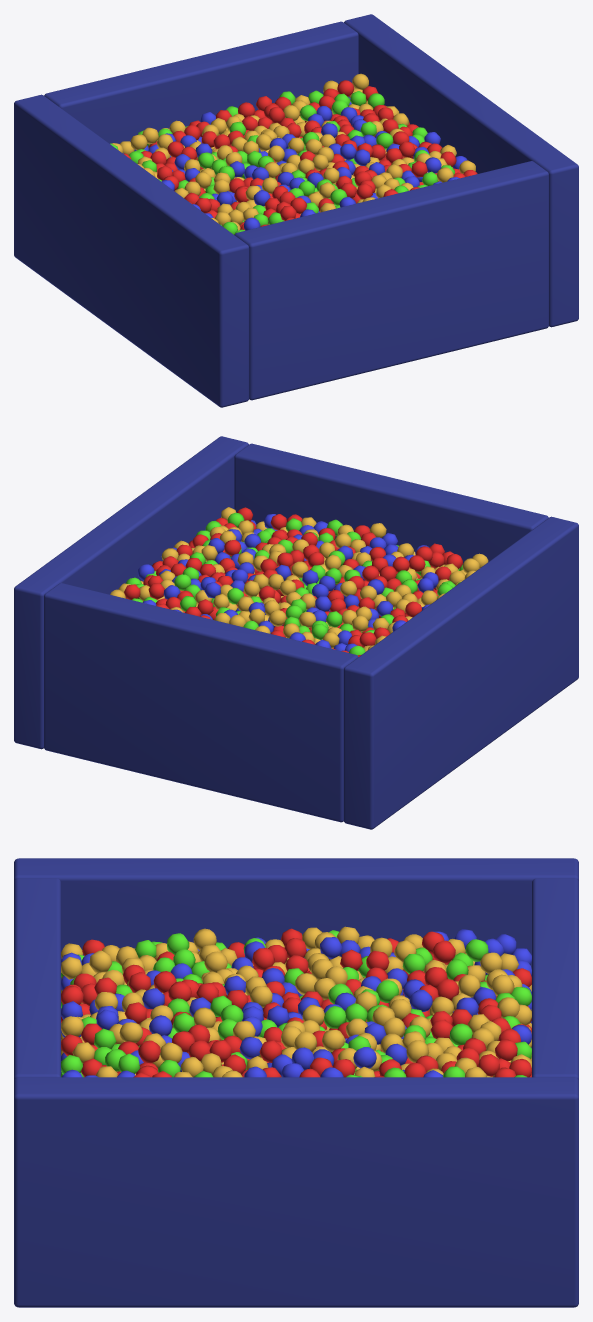
The model's file is ball-ball-pool.glb.
The picture shows the model from 3 angles, top to bottom: view 1: azimuth 30°, elevation 25°; view 2: azimuth 150°, elevation 25°; view 3: azimuth 270°, elevation 25°; orthographic projection. The views are drawn at different scales.
Visible parts, largest first — view 1: Cube.002, Cube.004, Cube.003, Cube.001; view 2: Cube.001, Cube.004, Cube.003, Cube.002; view 3: Cube.003, Cube.004, Cube.001, Cube.002.
Part boxes in pixels (left/top/right/bottom): Cube.002: left=234, top=161, right=548, bottom=400; Cube.004: left=14, top=94, right=249, bottom=407; Cube.003: left=344, top=14, right=578, bottom=327; Cube.001: left=44, top=21, right=358, bottom=143; Cube.001: left=44, top=583, right=358, bottom=822; Cube.004: left=343, top=516, right=578, bottom=829; Cube.003: left=14, top=436, right=248, bottom=749; Cube.002: left=234, top=443, right=548, bottom=564; Cube.003: left=14, top=1077, right=578, bottom=1307; Cube.004: left=14, top=858, right=578, bottom=1047; Cube.001: left=532, top=878, right=578, bottom=1080; Cube.002: left=14, top=878, right=60, bottom=1080.
Bounding box in the file's own units: 2.4 × 1 × 2.4.
